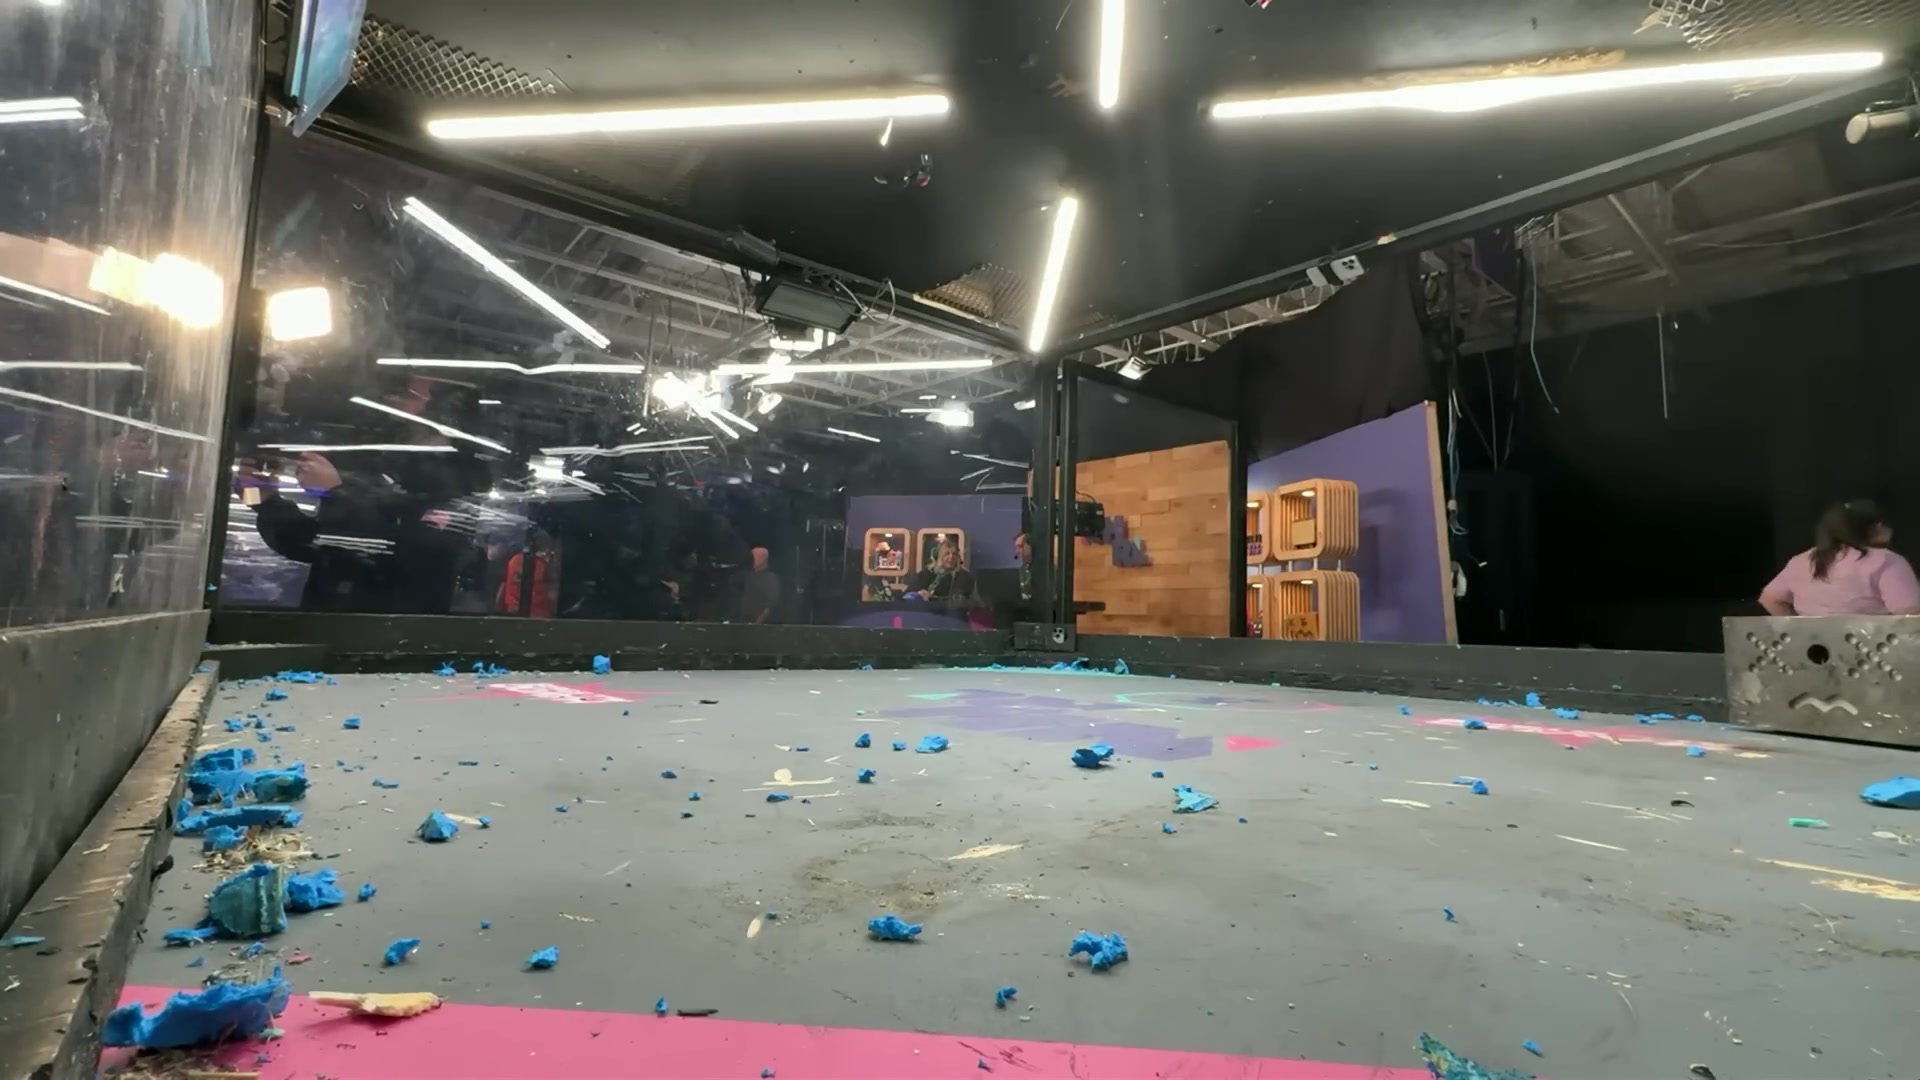debris: (99, 746, 331, 1042), (1858, 774, 1920, 814), (584, 647, 618, 676)
housebot: (1713, 607, 1920, 754)
